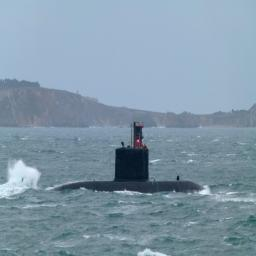submarine: (54, 119, 212, 191)
